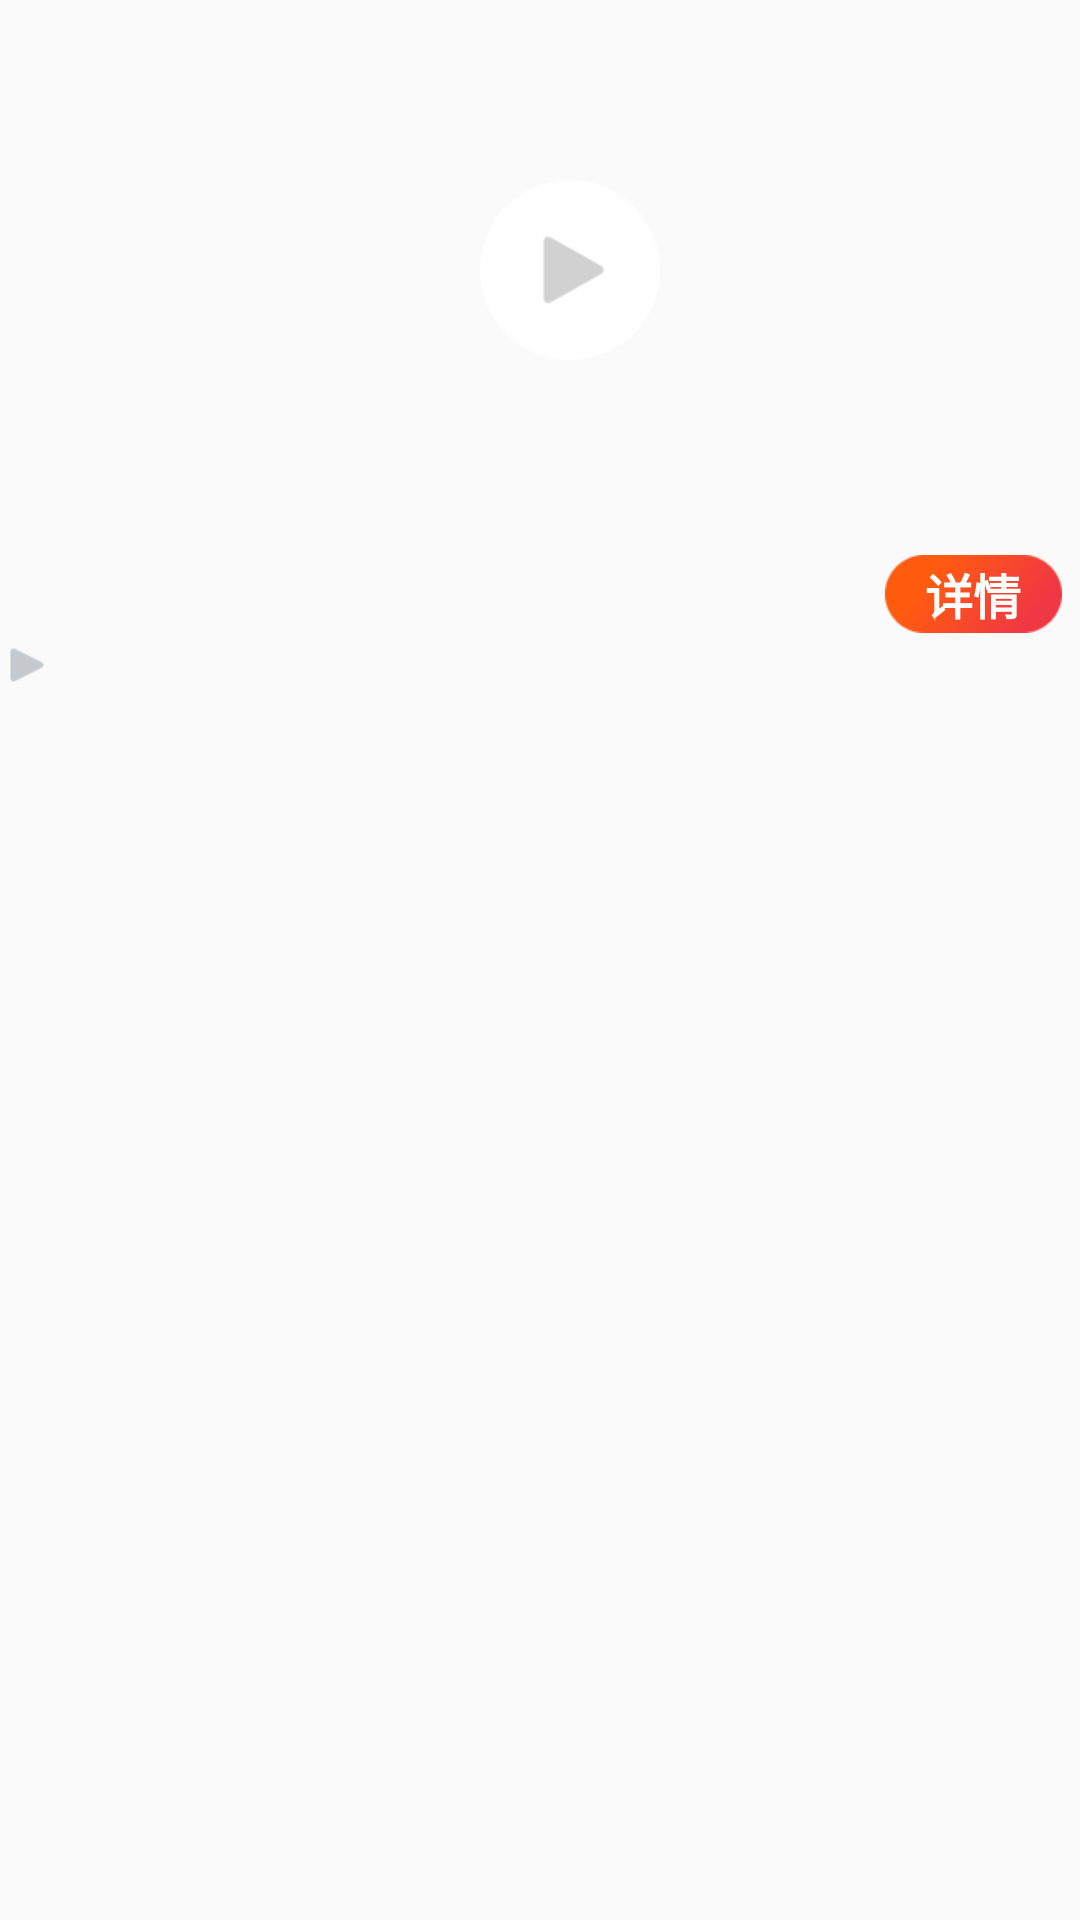

Icon bounding boxes for this 1080px×1920px phone screenshot, format (x1=x1, y1=y1, x2=x2, y2=y2):
course components audio play: (x1=10, y1=649, x2=43, y2=681)
course components video touch: (x1=544, y1=237, x2=603, y2=303)
